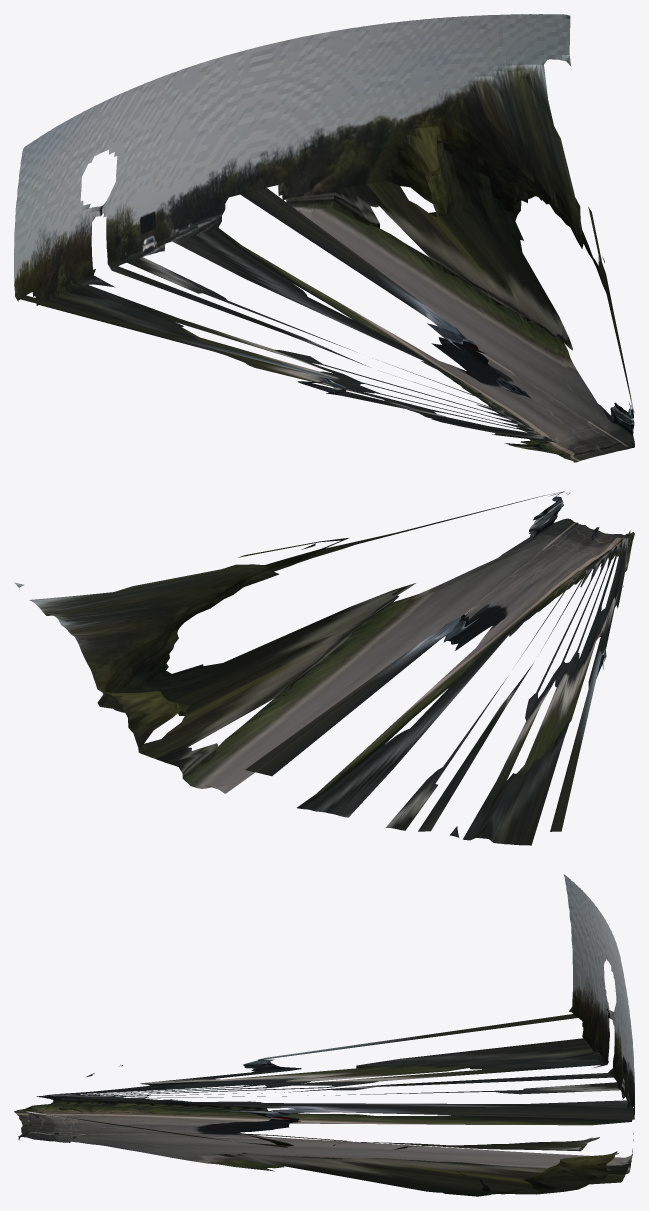
3 renders of one model, top to bottom at view 1: azimuth 30°, elevation 25°; view 2: azimuth 150°, elevation 25°; view 3: azimuth 270°, elevation 25°, orthographic. The views are drawn at different scales.
Visible parts, largest first — view 1: defaultobject; view 2: defaultobject; view 3: defaultobject.
Part boxes in pixels (box(x1,y1,x2,y2)): defaultobject: box(14, 14, 634, 462); defaultobject: box(14, 491, 634, 845); defaultobject: box(14, 874, 634, 1196).
Size of the model in its own units: 41.03 by 13.05 by 44.82.
Materials: 1 (1 with a texture image).
